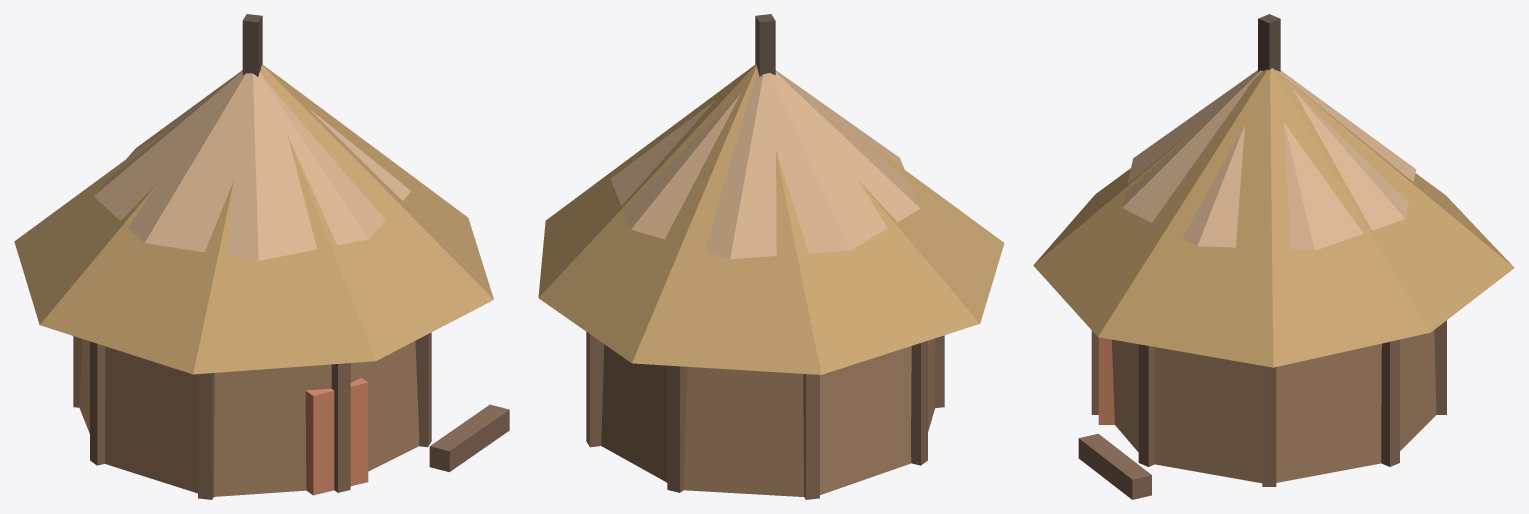
The model's file is hut.glb.
The picture shows the model from 3 angles, left to right: view 1: azimuth 30°, elevation 25°; view 2: azimuth 150°, elevation 25°; view 3: azimuth 270°, elevation 25°; orthographic projection. The views are drawn at different scales.
Parts seen in each view (by area): view 1: roof, detail_thatch, walls, door, detail_log, detail_stake6, detail_stake5, detail_stake4, detail_stake7, detail_pole, detail_stake3; view 2: roof, walls, detail_thatch, detail_stake2, detail_stake3, detail_stake4, detail_stake1, detail_pole, detail_stake5; view 3: roof, walls, detail_thatch, detail_log, detail_stake1, detail_stake7, detail_stake0, door, detail_pole, detail_stake2, detail_stake6.
Boxes of the visible parts, bbox=[...] form: roof: bbox=[14, 64, 493, 374]; detail_thatch: bbox=[94, 70, 410, 260]; walls: bbox=[79, 339, 419, 496]; door: bbox=[305, 378, 368, 495]; detail_log: bbox=[429, 404, 509, 472]; detail_stake6: bbox=[331, 363, 350, 492]; detail_stake5: bbox=[198, 373, 214, 499]; detail_stake4: bbox=[90, 341, 105, 465]; detail_stake7: bbox=[415, 332, 431, 447]; detail_pole: bbox=[242, 14, 262, 76]; detail_stake3: bbox=[73, 336, 82, 407]; roof: bbox=[538, 64, 1004, 374]; walls: bbox=[601, 338, 935, 496]; detail_thatch: bbox=[610, 70, 920, 259]; detail_stake2: bbox=[667, 365, 687, 492]; detail_stake3: bbox=[803, 374, 819, 499]; detail_stake4: bbox=[911, 340, 927, 465]; detail_stake1: bbox=[586, 332, 603, 447]; detail_pole: bbox=[755, 14, 775, 76]; detail_stake5: bbox=[935, 335, 944, 408]; roof: bbox=[1033, 68, 1514, 367]; walls: bbox=[1111, 330, 1436, 483]; detail_thatch: bbox=[1122, 70, 1416, 250]; detail_log: bbox=[1078, 433, 1151, 499]; detail_stake1: bbox=[1381, 339, 1399, 466]; detail_stake7: bbox=[1138, 344, 1155, 466]; detail_stake0: bbox=[1262, 366, 1276, 486]; door: bbox=[1098, 337, 1114, 424]; detail_pole: bbox=[1258, 14, 1280, 71]; detail_stake2: bbox=[1434, 320, 1446, 414]; detail_stake6: bbox=[1091, 330, 1098, 414].
Size of the model in its own units: 1.72 by 1.55 by 1.72.
